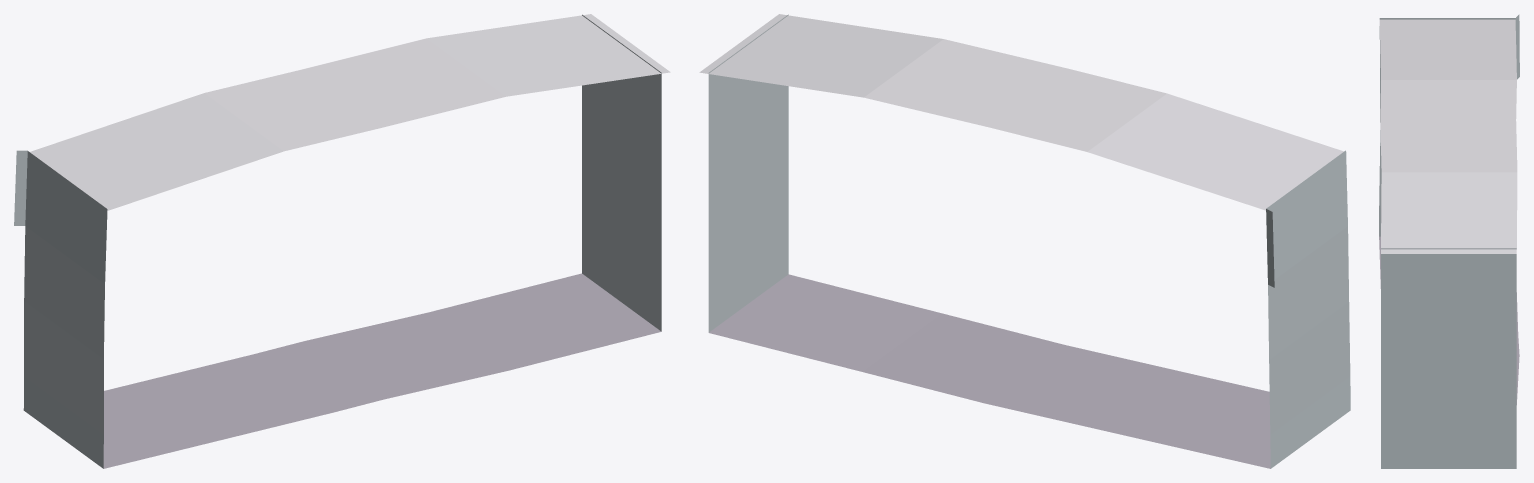
The model's file is CabinRoom00_Addition.fbx.
The picture shows the model from 3 angles, left to right: view 1: azimuth 30°, elevation 25°; view 2: azimuth 150°, elevation 25°; view 3: azimuth 270°, elevation 25°; orthographic projection. The views are drawn at different scales.
Parts seen in each view (by area): view 1: cabinRoomWalls.004; view 2: cabinRoomWalls.004; view 3: cabinRoomWalls.004.
Boxes of the visible parts, box(x1,y1,x2,y2) form: cabinRoomWalls.004: box(14, 14, 670, 468); cabinRoomWalls.004: box(699, 14, 1350, 468); cabinRoomWalls.004: box(1379, 14, 1519, 468).
Bounding box in the file's own units: 51.11 × 23.27 × 12.73.
